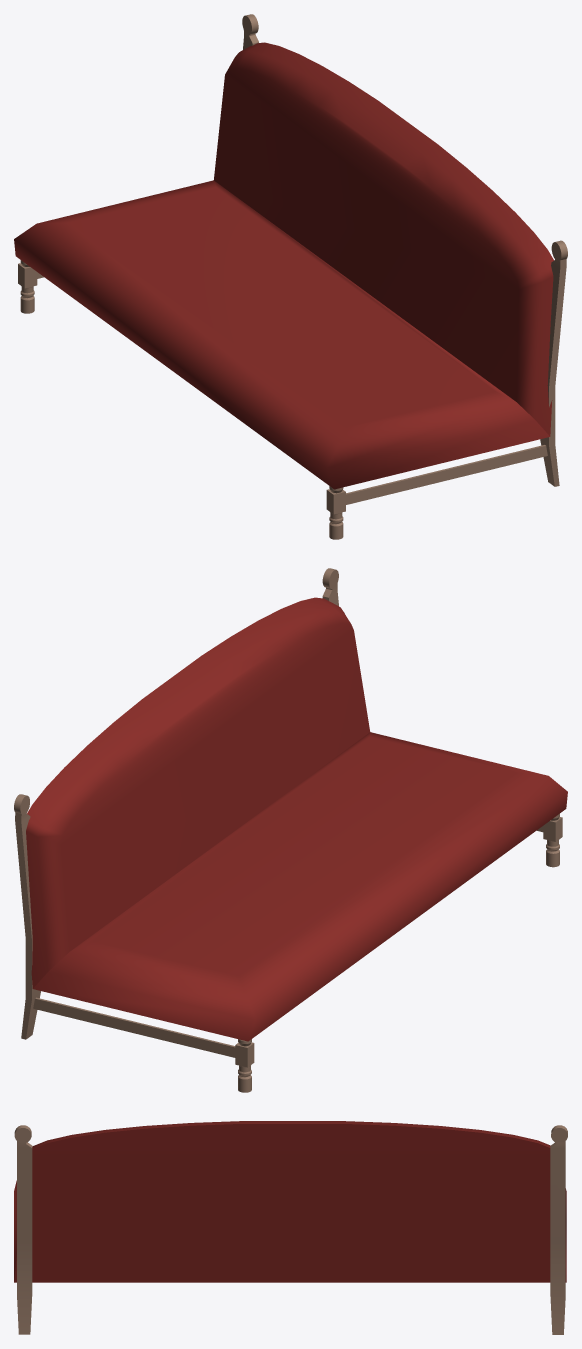
Rendered from Couch.fbx.
3 views of the same model, one above another, from view 1: azimuth 30°, elevation 25°; view 2: azimuth 150°, elevation 25°; view 3: azimuth 270°, elevation 25° (orthographic). The views are drawn at different scales.
Visible parts, largest first — view 1: Couch; view 2: Couch; view 3: Couch.
Part boxes in pixels (x1=…): Couch: x1=14, y1=14, x2=567, y2=539; Couch: x1=14, y1=568, x2=567, y2=1092; Couch: x1=14, y1=1121, x2=567, y2=1334.
Size of the model in its own units: 216 by 212 by 499.
